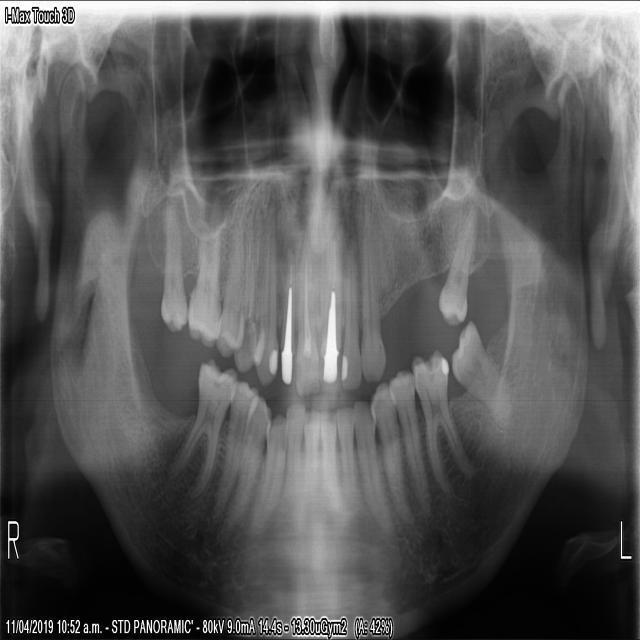LCD: (352, 394, 394, 533)
LCU: (359, 229, 386, 386)
LID: (335, 403, 363, 512), (321, 403, 338, 508)
LIU: (318, 228, 342, 391), (338, 233, 360, 393)
LMD: (406, 349, 475, 494), (448, 313, 516, 435)
LMU: (433, 208, 477, 329)
LPMD: (369, 367, 415, 525), (387, 368, 431, 517)
RCD: (248, 412, 287, 534)
RCU: (253, 206, 277, 386)
RID: (275, 399, 305, 515), (299, 406, 320, 518)
RIU: (293, 235, 319, 396)
RMD: (166, 355, 236, 494)
RMU: (185, 232, 222, 354), (158, 200, 186, 333)
RPMD: (220, 393, 273, 541), (209, 376, 260, 516)
RPMU: (213, 200, 253, 362), (231, 221, 261, 374)
